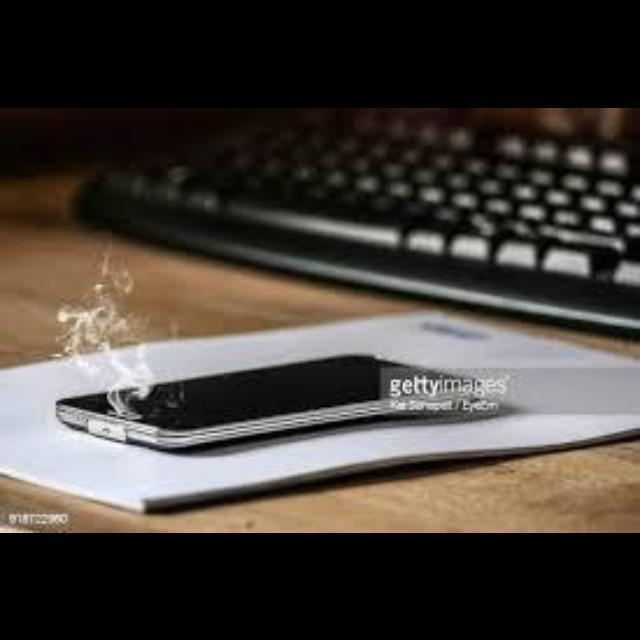phone: (33, 334, 508, 451)
